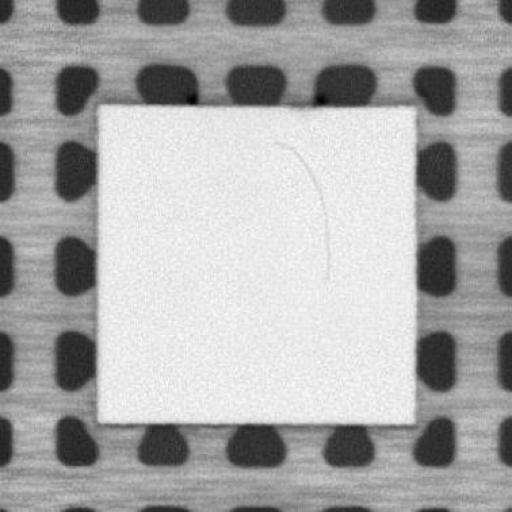DIE_CRACK: (274, 139, 332, 281)
